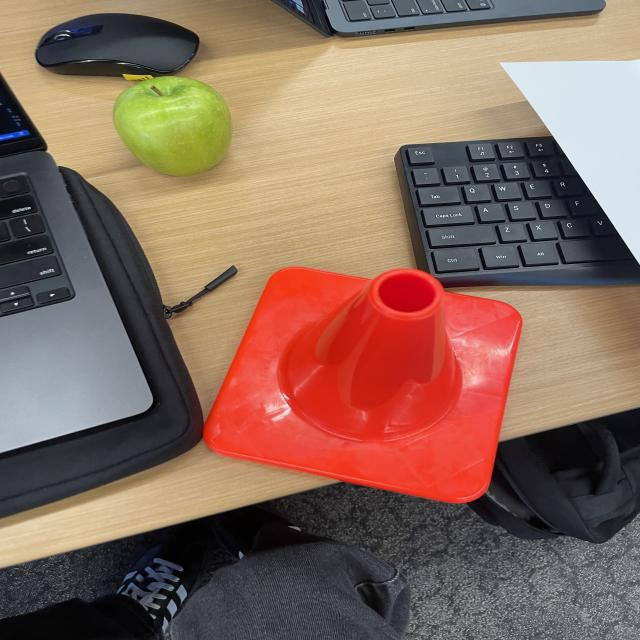Traffic Cone: (201, 265, 520, 506)
